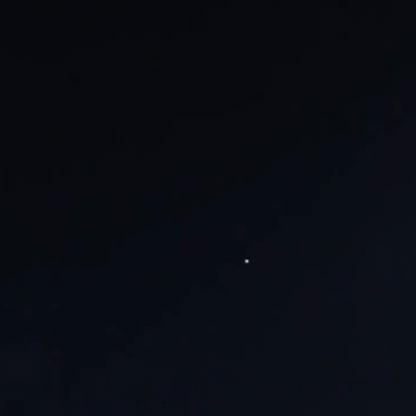ball: (241, 254, 253, 268)
